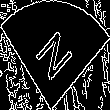N_SW: (32, 23, 78, 87)
